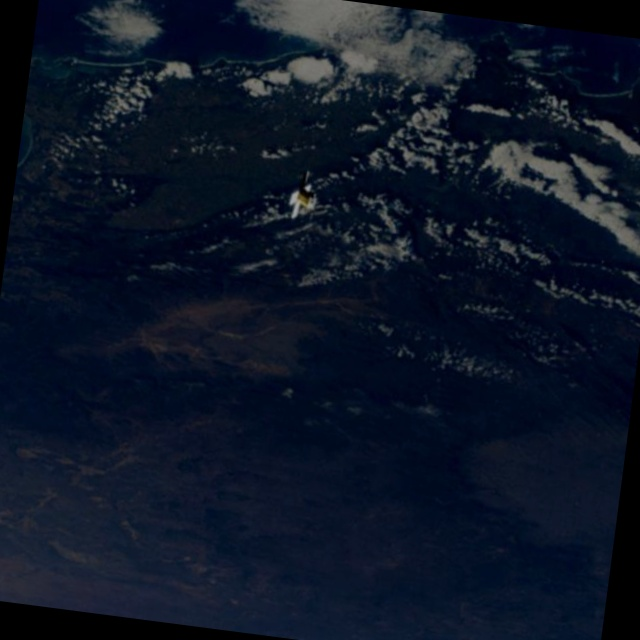satellite: (272, 158, 336, 233)
